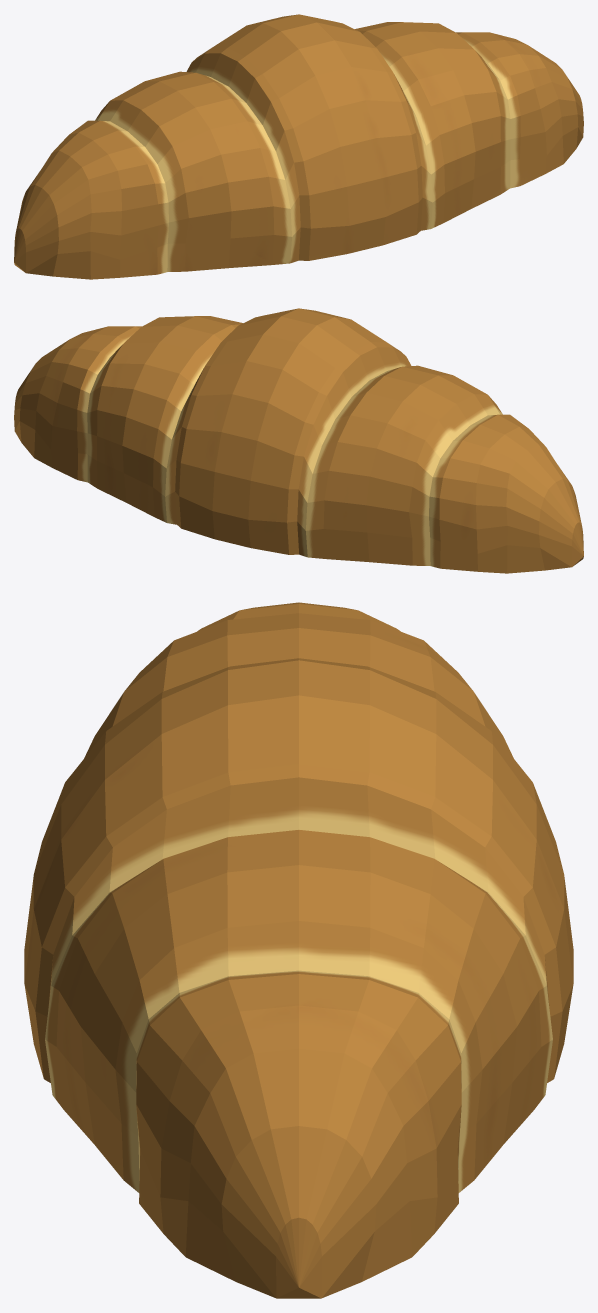
File: Croissant.fbx
The picture shows the model from 3 angles, top to bottom: view 1: azimuth 30°, elevation 25°; view 2: azimuth 150°, elevation 25°; view 3: azimuth 270°, elevation 25°; orthographic projection. The views are drawn at different scales.
Visible parts, largest first — view 1: Croissant; view 2: Croissant; view 3: Croissant.
Boxes of the visible parts, left/top/right/bottom form: Croissant: left=14, top=14, right=583, bottom=279; Croissant: left=14, top=308, right=583, bottom=573; Croissant: left=24, top=602, right=573, bottom=1298.
Size of the model in its own units: 107 by 74.65 by 255.
